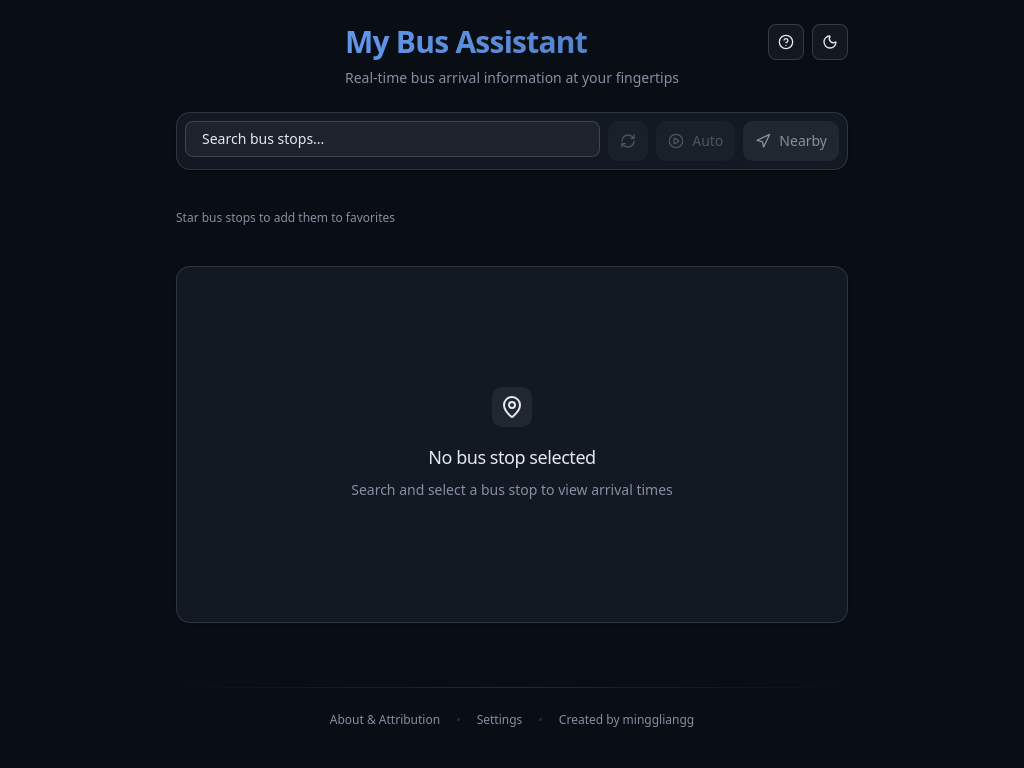
Test: Root Route › Tutorial replay and route guard › reopens from Home tutorial button after completion
Click the button named "Start tutorial": (786, 42) 768,24 -> 804,60
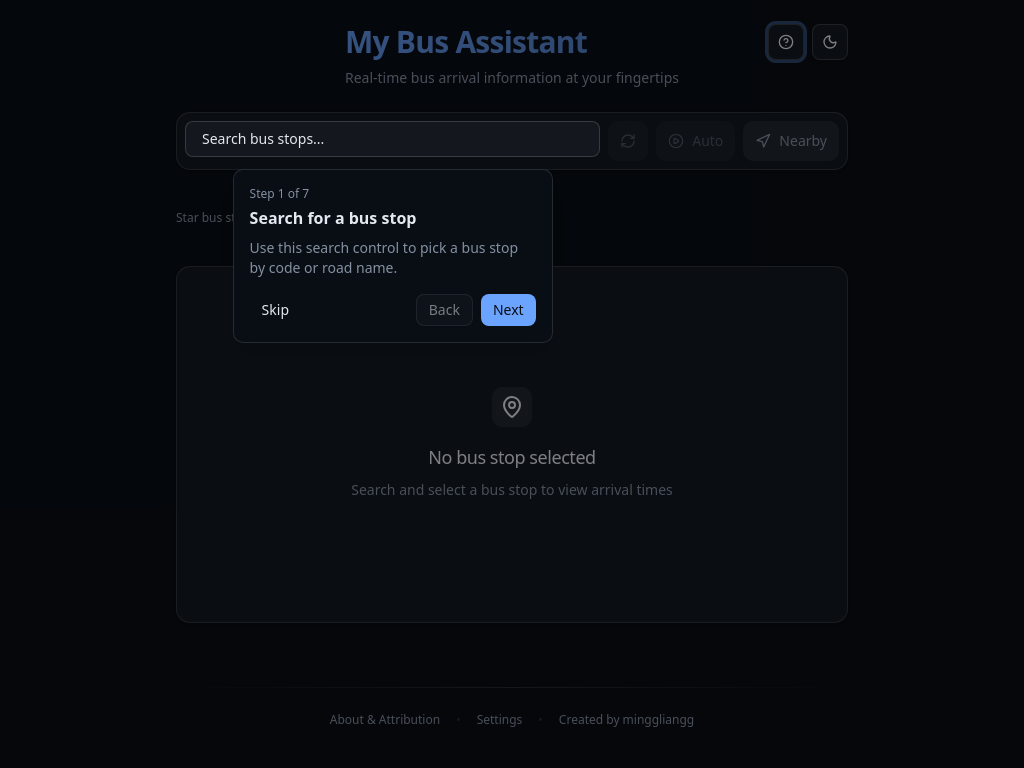
Now the dialog named "Home tutorial" is shown
